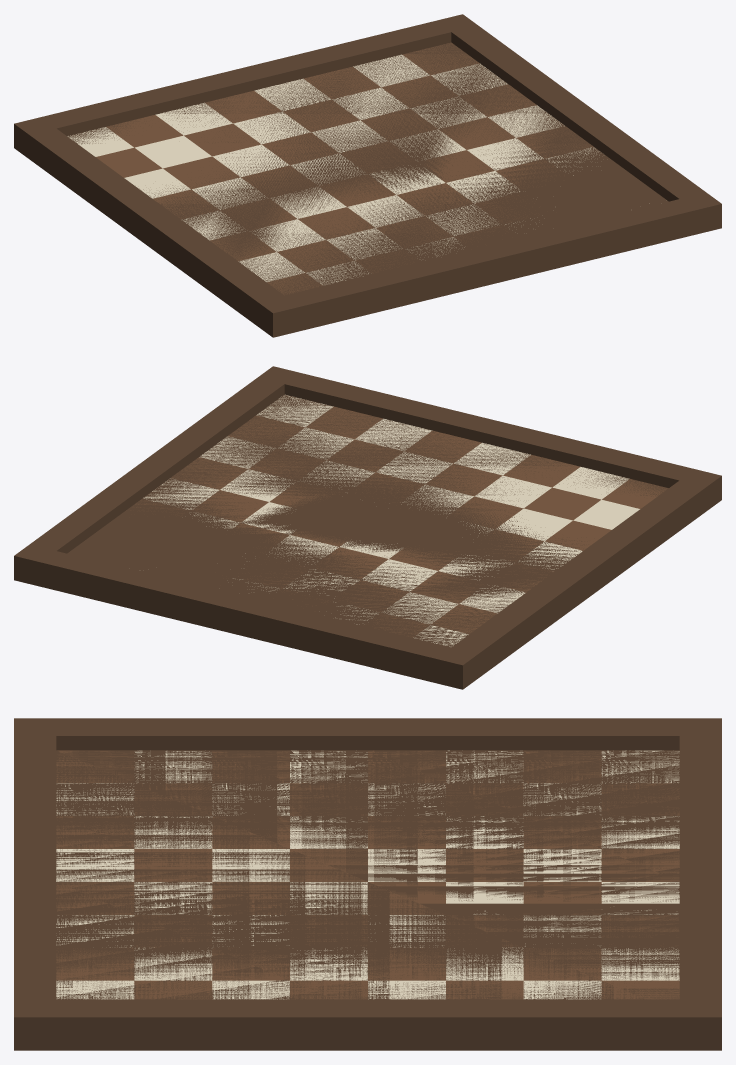
File: board.glb
3 renders of one model, top to bottom at view 1: azimuth 30°, elevation 25°; view 2: azimuth 150°, elevation 25°; view 3: azimuth 270°, elevation 25°, orthographic. The views are drawn at different scales.
Visible parts, largest first — view 1: BoardFrame, BoardSquares; view 2: BoardFrame, BoardSquares; view 3: BoardFrame, BoardSquares.
Boxes of the visible parts, box(x1,y1,x2,y2) form: BoardFrame: box(14, 14, 721, 337); BoardSquares: box(67, 43, 649, 295); BoardFrame: box(14, 366, 721, 689); BoardSquares: box(130, 394, 667, 646); BoardFrame: box(14, 718, 721, 1050); BoardSquares: box(56, 750, 679, 999).
Size of the model in its own units: 0.5 by 0.026 by 0.5.
